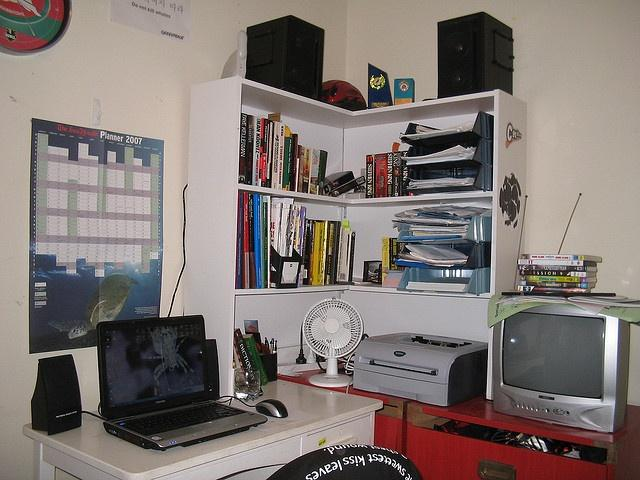Meja: (22, 377, 383, 478)
Printer: (350, 331, 488, 406)
Rak: (231, 74, 497, 402)
